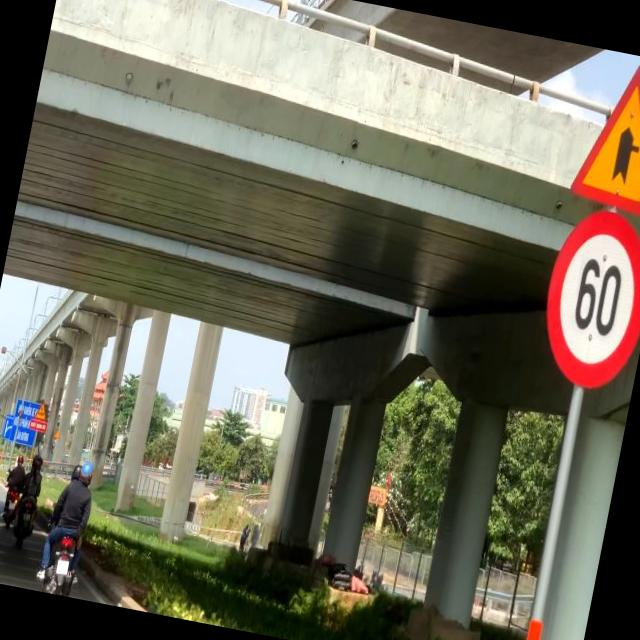P-127: (529, 200, 640, 397)
W-207b: (568, 58, 640, 221)
